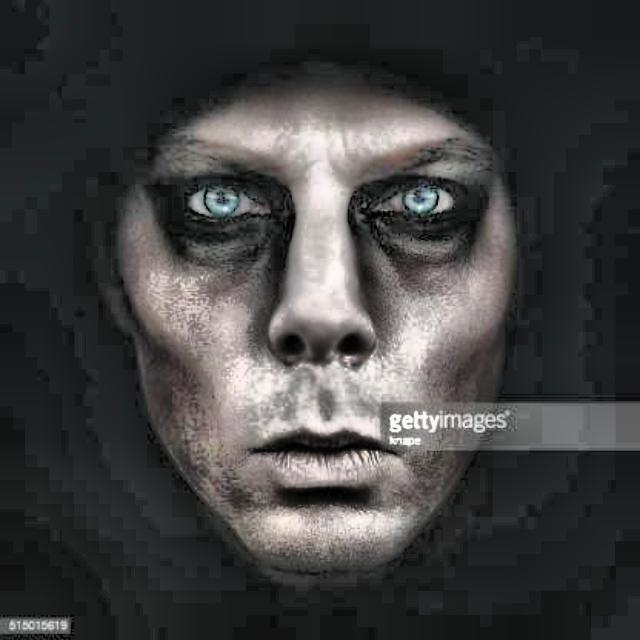neutral: (102, 56, 529, 574)
